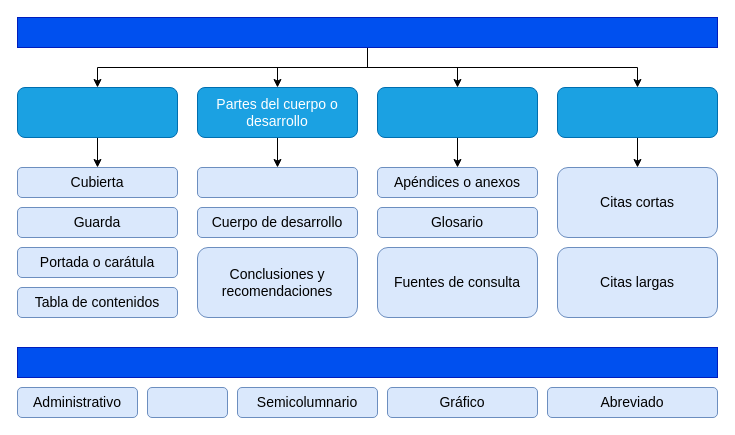
Some shapes in this 735 by 435 pixel diagram are drawn without their labels. Here are the shapes that lost their labels. From the top down, the centre of each, then its label:
point 367,32: Partes del informe
point 97,112: Partes peliminares
point 457,112: Partes complementarias
point 637,112: Citas textuales
point 277,182: Introducción
point 367,362: Tipos de esquemas
point 187,402: Técnico
